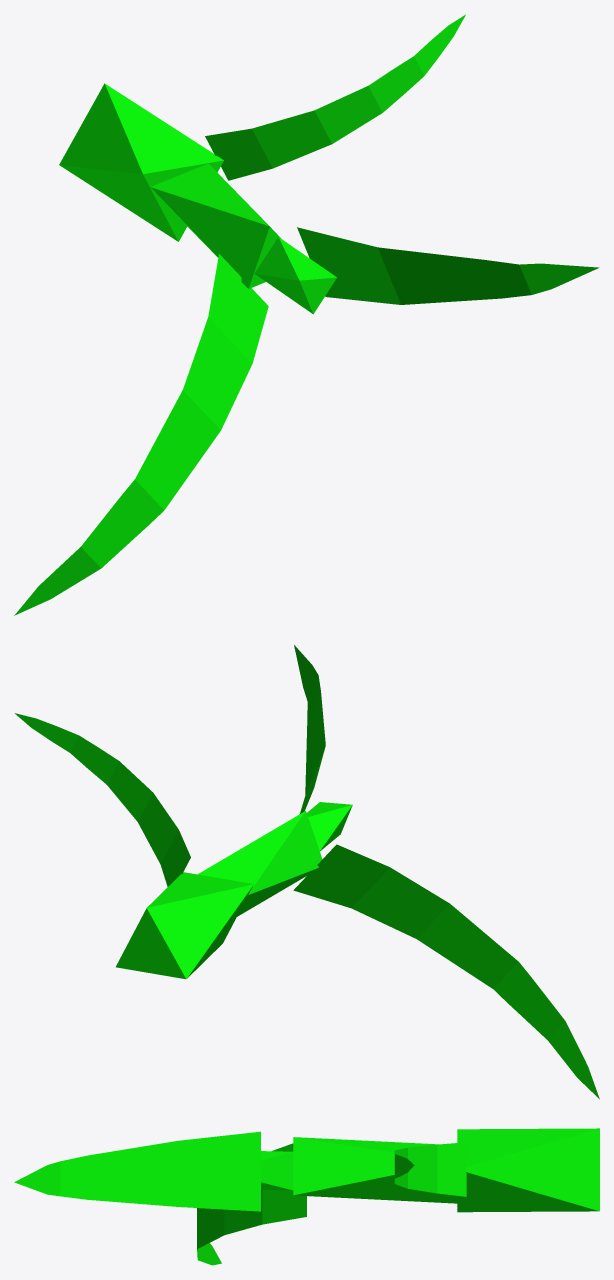
File: usm_12_Beer_2018-07-21_5.obj
3 renders of one model, top to bottom at view 1: azimuth 30°, elevation 25°; view 2: azimuth 150°, elevation 25°; view 3: azimuth 270°, elevation 25°, orthographic. The views are drawn at different scales.
Visible parts, largest first — view 1: vid_6, vid_8, vid_3, vid_4, vid_5, vid_7; view 2: vid_6, vid_3, vid_4, vid_5, vid_8, vid_7; view 3: vid_8, vid_3, vid_5, vid_6, vid_4, vid_7.
Boxes of the visible parts, x1,y1,x2,y2 form: vid_6: [14, 254, 268, 615]; vid_8: [297, 227, 599, 304]; vid_3: [59, 83, 223, 241]; vid_4: [205, 14, 465, 180]; vid_5: [150, 163, 281, 288]; vid_7: [254, 237, 336, 314]; vid_6: [293, 844, 599, 1099]; vid_3: [116, 872, 253, 979]; vid_4: [14, 713, 190, 886]; vid_5: [197, 811, 322, 916]; vid_8: [294, 645, 325, 813]; vid_7: [307, 802, 352, 850]; vid_8: [14, 1131, 260, 1211]; vid_3: [457, 1128, 599, 1212]; vid_5: [293, 1137, 457, 1203]; vid_6: [197, 1143, 306, 1265]; vid_4: [394, 1142, 466, 1196]; vid_7: [261, 1151, 293, 1190].
Bounding box in the file's own units: 15.27 × 10.01 × 15.64.
